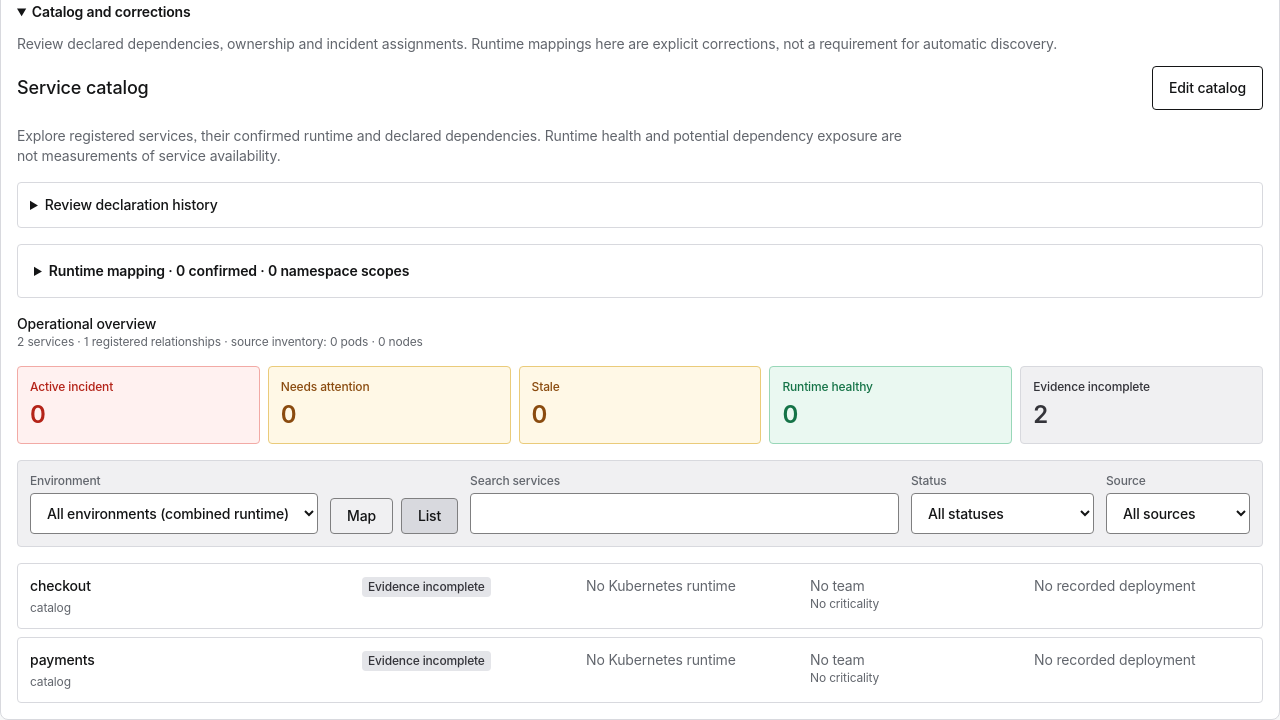
TopologyPanel page states › distinguishes a search with no matches from a genuinely empty topology
(page scrolled)
Type "not-present" into the search field labelled "Search services" at (685, 514), box [470, 493, 899, 534]
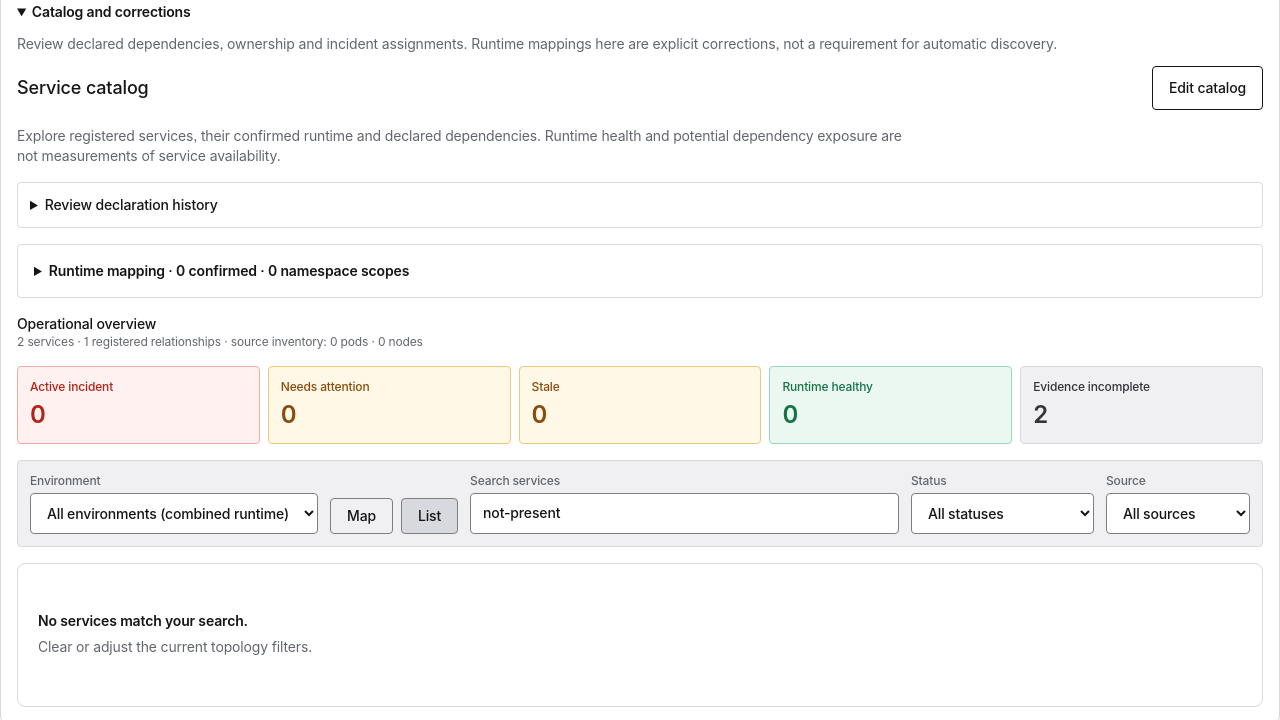
Check: the text "No services match your search." is shown, box [38, 612, 248, 629]
